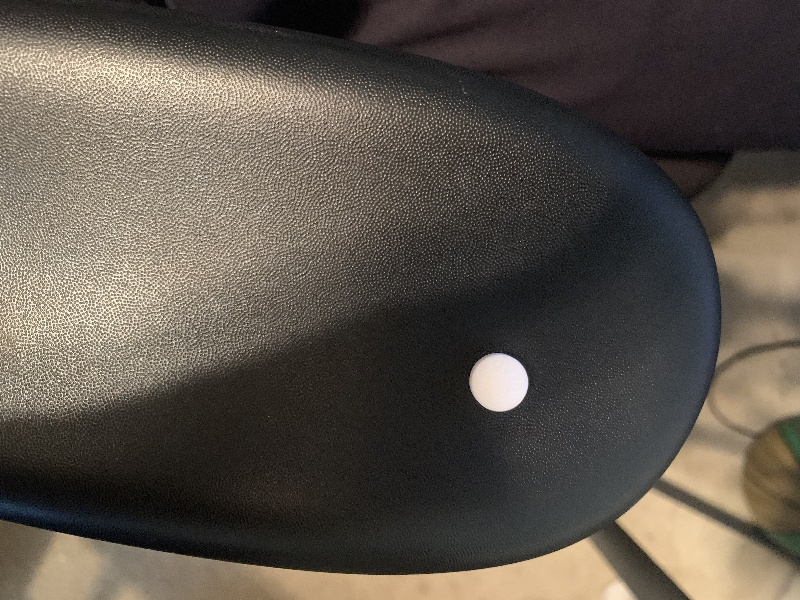Aspirin: (466, 348, 536, 419)
